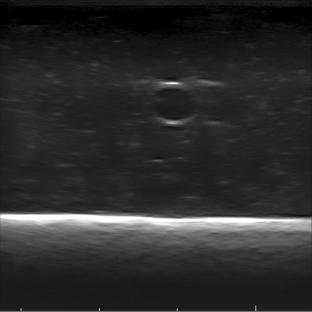vessel: (148, 80, 198, 128)
